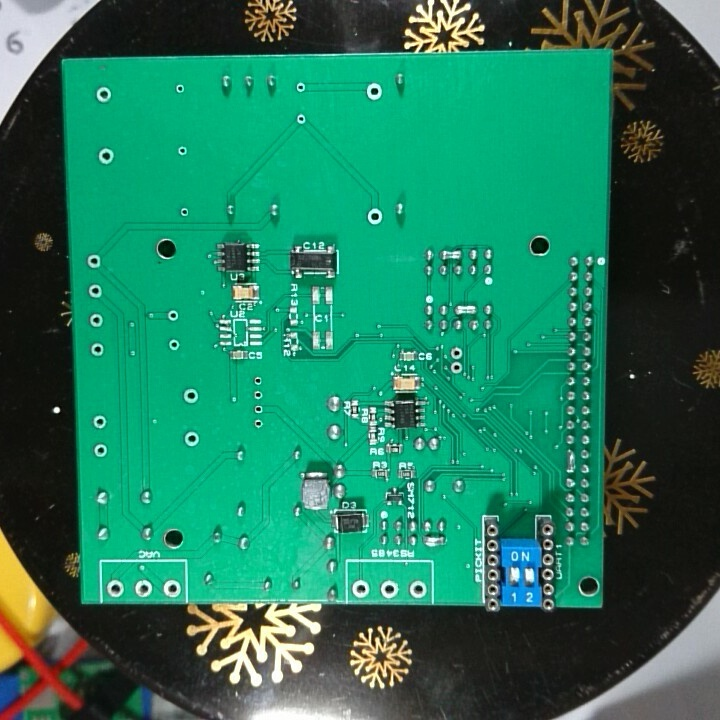F: (159, 577, 180, 601), (96, 144, 117, 167), (133, 577, 154, 600), (105, 577, 126, 599), (350, 576, 370, 598), (379, 578, 399, 600), (365, 80, 384, 103), (365, 205, 383, 229), (408, 579, 428, 600), (85, 280, 104, 302), (94, 84, 113, 104), (85, 252, 104, 272), (91, 413, 110, 433), (182, 428, 200, 449), (88, 340, 106, 360), (91, 440, 109, 460), (181, 386, 199, 406), (88, 310, 105, 329), (166, 335, 181, 353), (165, 306, 179, 324), (448, 361, 463, 377), (294, 111, 308, 128), (448, 345, 463, 360), (294, 79, 308, 95), (176, 144, 190, 160), (177, 204, 191, 220), (252, 400, 265, 417), (251, 372, 265, 387), (252, 417, 265, 432), (252, 388, 265, 402), (173, 82, 186, 95)
P: (419, 532, 448, 549), (437, 246, 465, 262), (564, 448, 579, 475), (453, 302, 477, 316)
